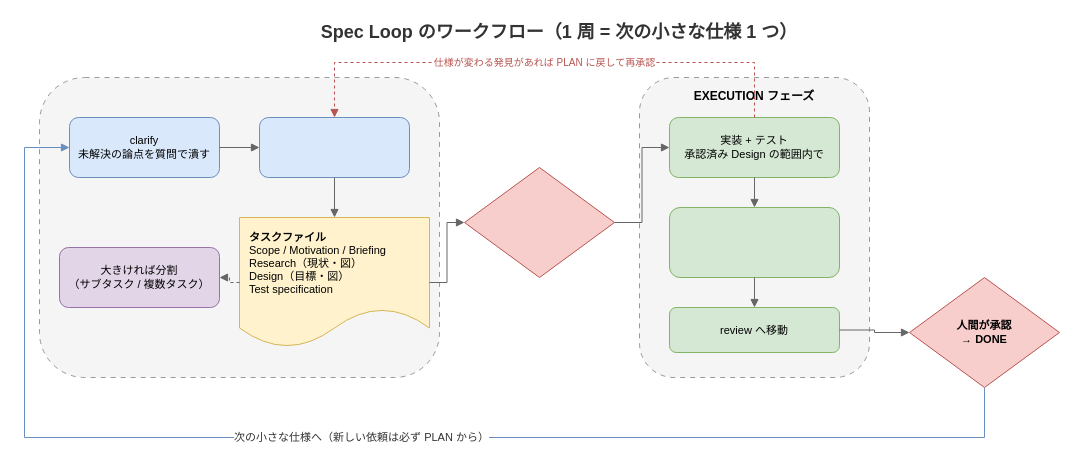
Image size: 1077x463. Some labels were removed from this diagram. The shapes that lost their labels are listed below. From the top down, each one's box as (x1, y1, x2, y2) in pixels, then its label:
(258, 116, 410, 178): plan タスクファイルを書く
(38, 76, 440, 378): PLAN フェーズ
(464, 166, 614, 278): 人間が承認 PLAN → EXECUTION
(668, 206, 840, 278): 生きたドキュメントも 同じ増分で更新 （仕様・ADR・用語集）
